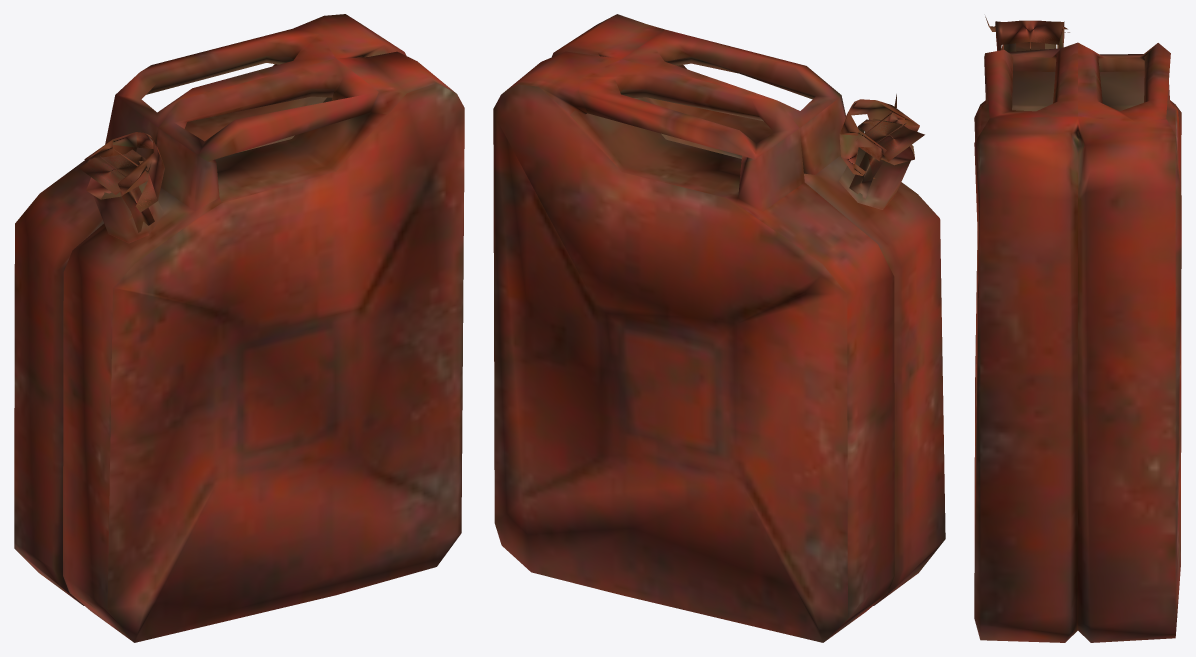
The model's file is metal_jerrycan.glb.
3 renders of one model, left to right at view 1: azimuth 30°, elevation 25°; view 2: azimuth 150°, elevation 25°; view 3: azimuth 270°, elevation 25°, orthographic. The views are drawn at different scales.
Parts seen in each view (by area): view 1: metal_jerrycan; view 2: metal_jerrycan; view 3: metal_jerrycan.
Part boxes in pixels (x1,y1,x2,y2): metal_jerrycan: (14, 14, 464, 642); metal_jerrycan: (493, 14, 945, 642); metal_jerrycan: (974, 16, 1181, 642).
Size of the model in its own units: 0.3481 by 0.4524 by 0.1692.
Materials: 1 (1 with a texture image).
